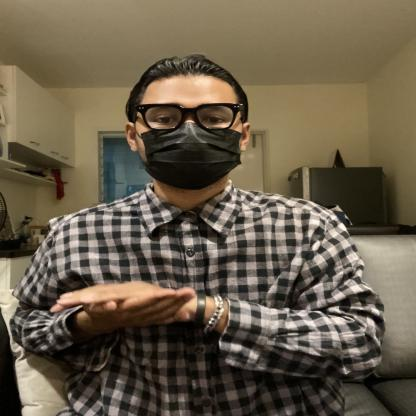Love: (32, 246, 270, 350)
